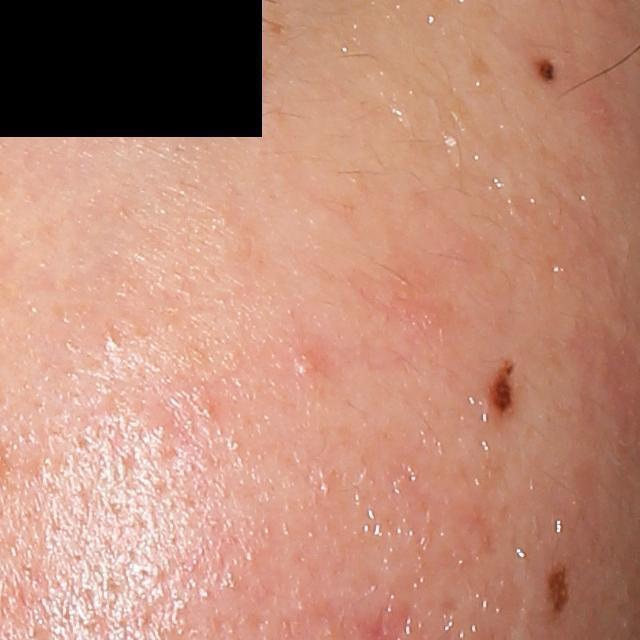nevus: (485, 356, 521, 419), (545, 562, 577, 616), (534, 57, 557, 85)
papule: (291, 351, 319, 377)
